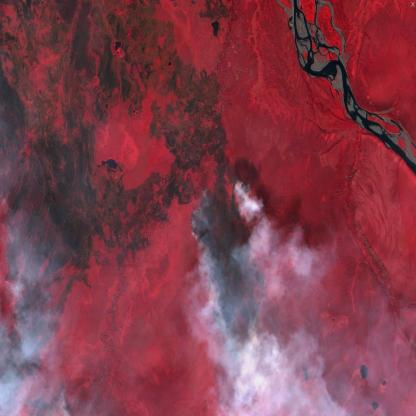fire: (186, 176, 270, 361), (0, 223, 75, 416)
